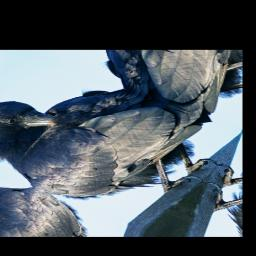Crow: (0, 52, 241, 236)
